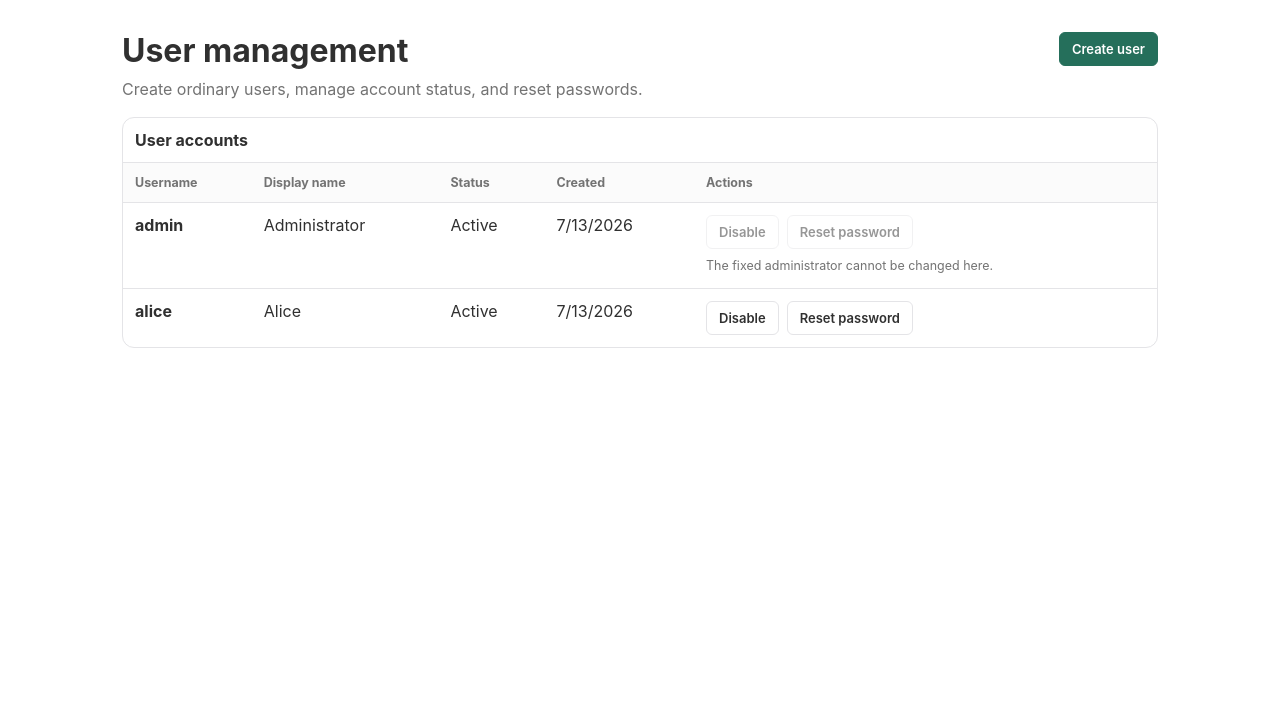
Test: AdminUserManagementPage › rejects non-ASCII username deterministically and clears the secret
Click the button "Create user" at {"x": 1108, "y": 49}, box [1059,32,1158,66]
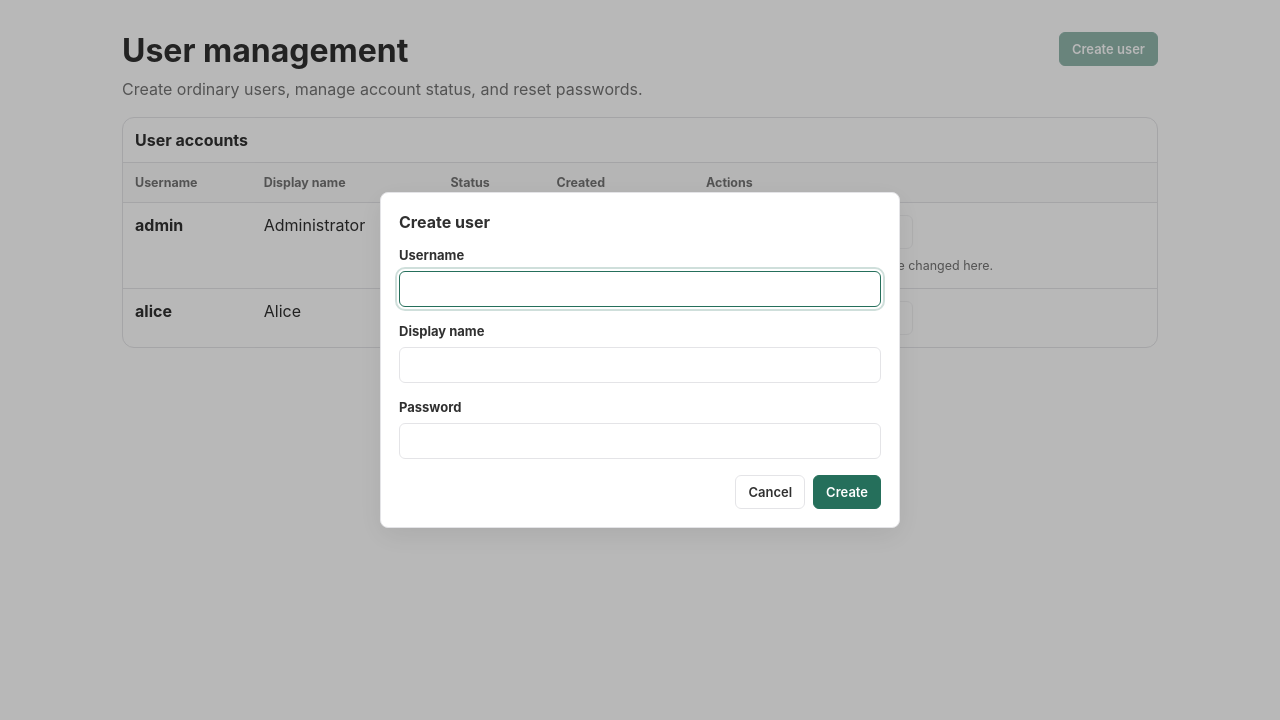
Type "用户name" into the field labelled "Username" at {"x": 640, "y": 289}, box [399,271,881,307]
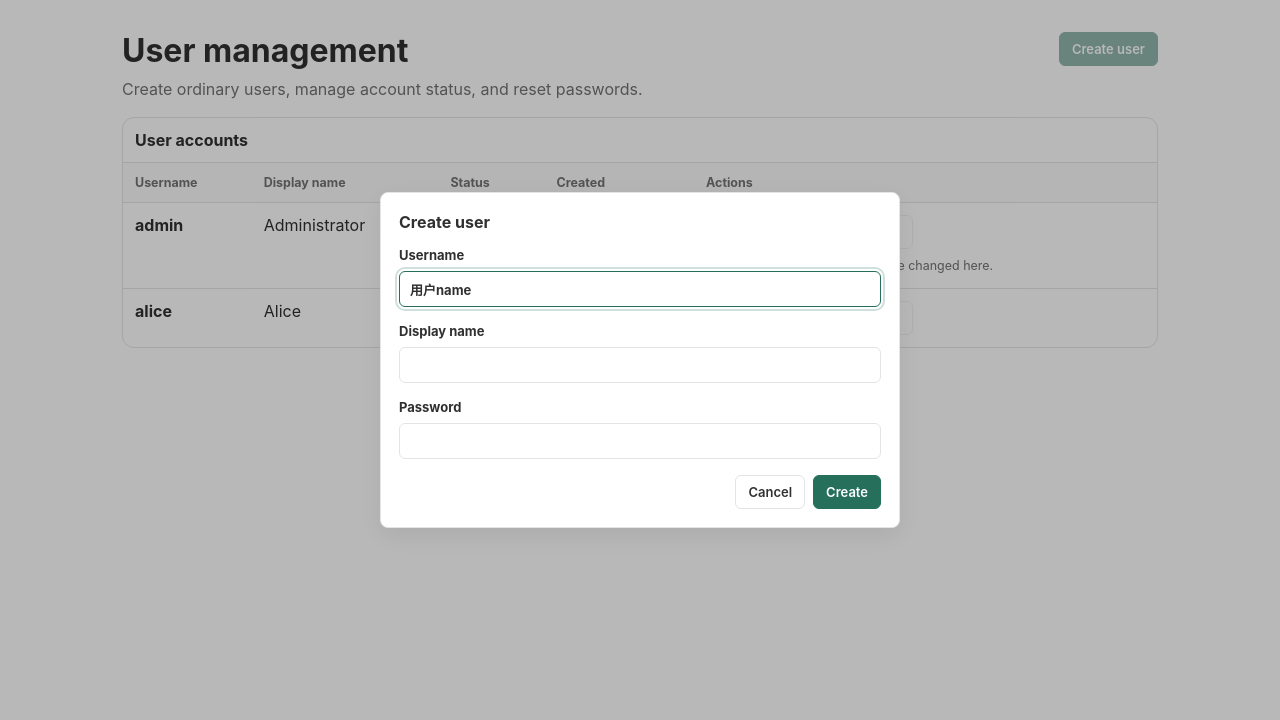
Type "Reader" into the field labelled "Display name" at {"x": 640, "y": 365}, box [399,347,881,383]
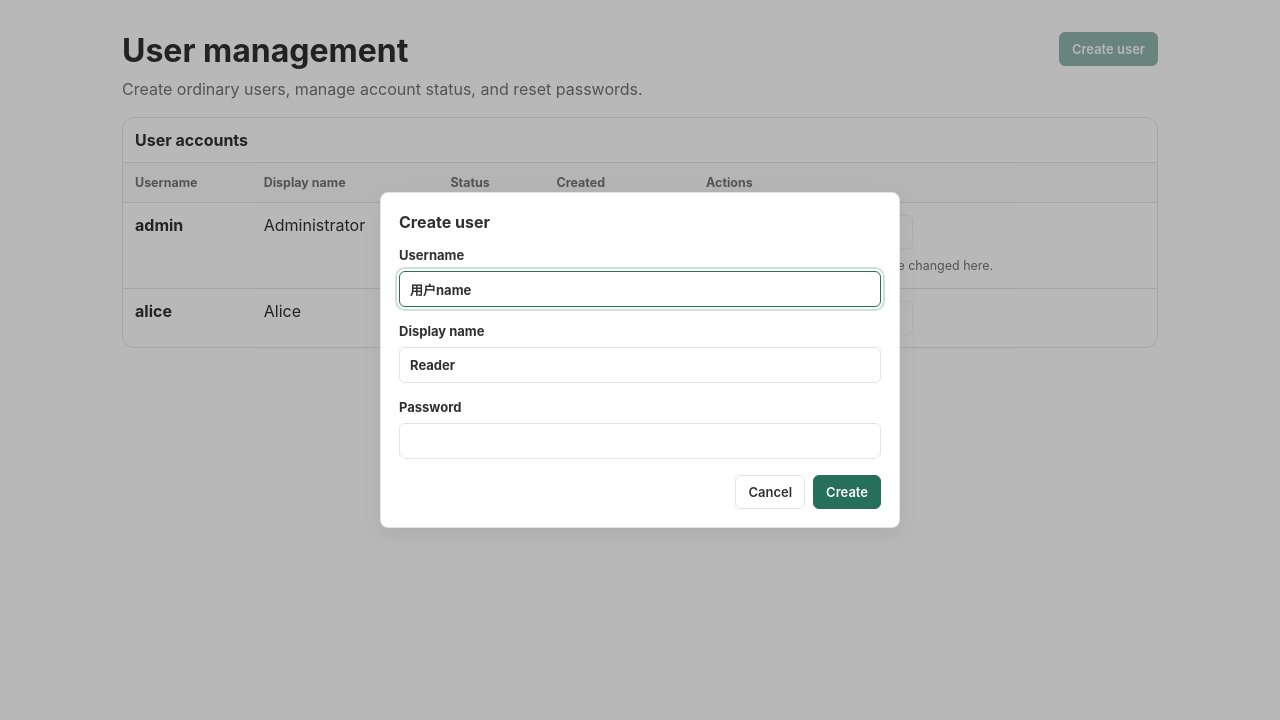
Type "valid-password" into the password field labelled "Password" at {"x": 640, "y": 441}, box [399,423,881,459]
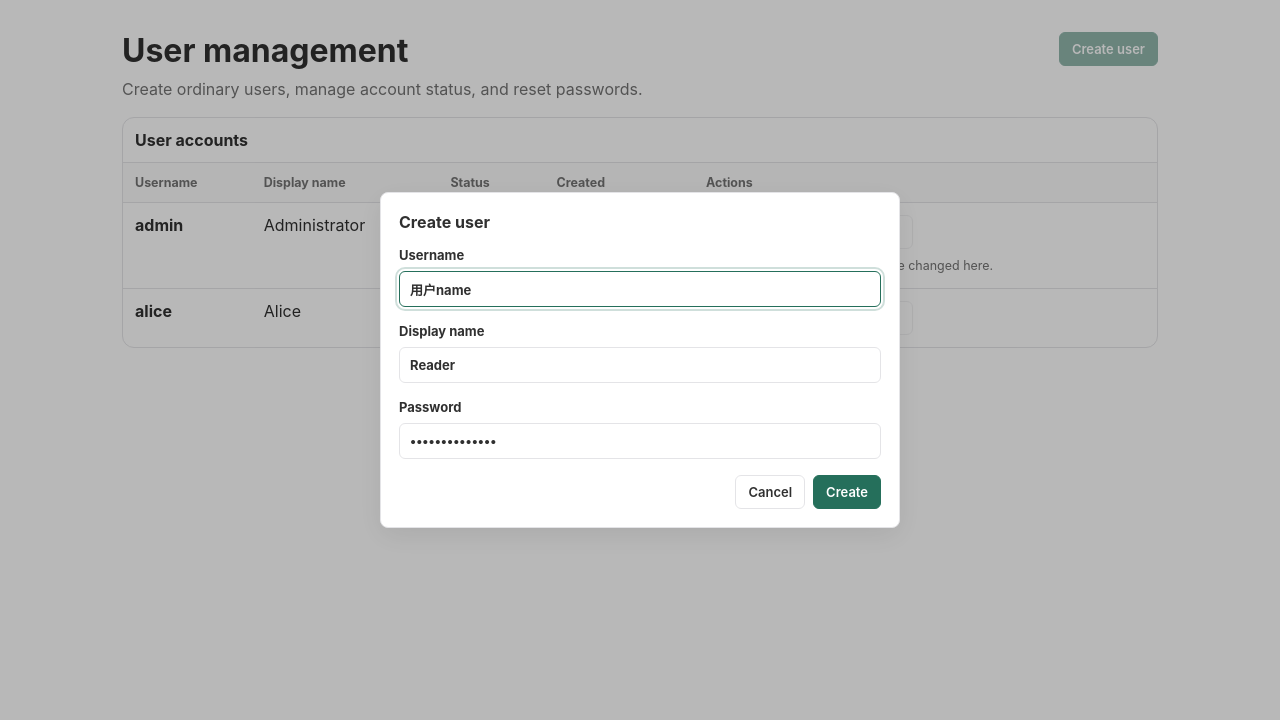
Click the button "Create" at {"x": 847, "y": 492}, box [813,475,881,509]
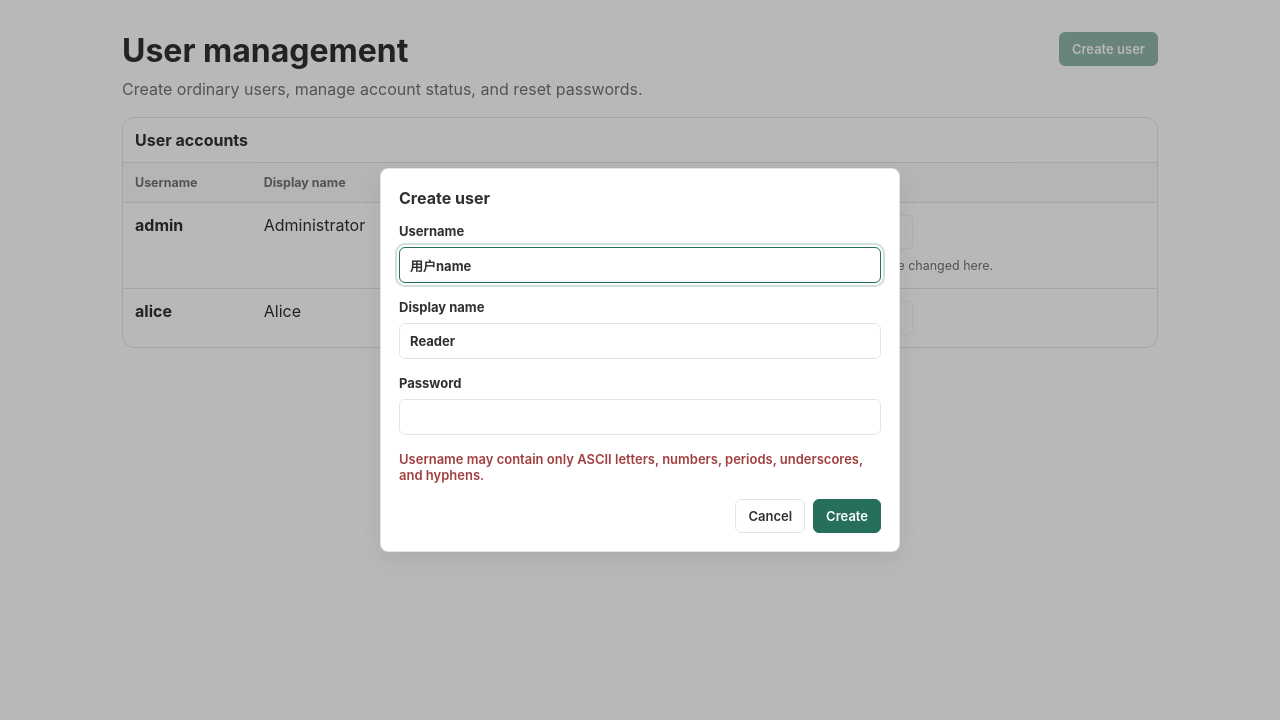
Check: the message shows "Username may contain only ASCII letters, numbers, periods, underscores, and hyphens.", box [399,451,863,483]
Check: the password field labelled "Password" is empty, box [399,399,881,435]
